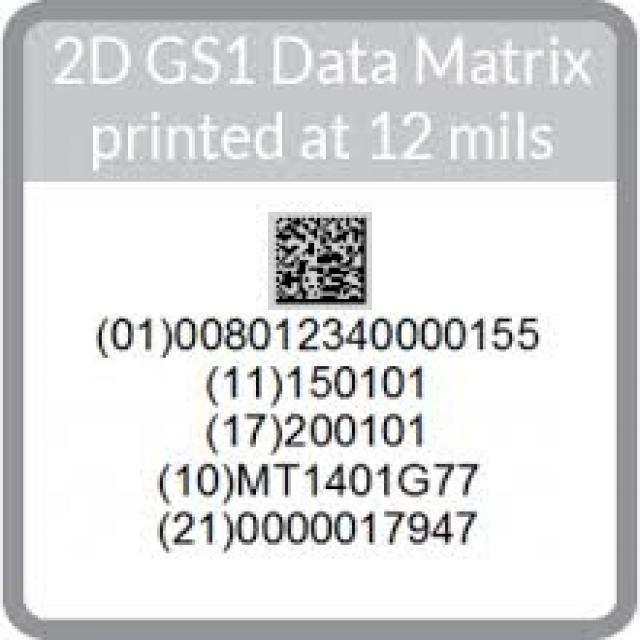DataMatrix: (268, 212, 372, 310)
